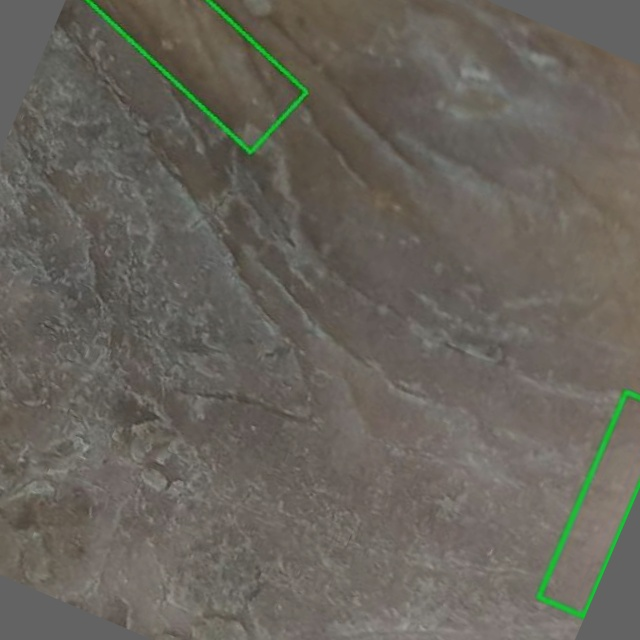Eczema: (86, 0, 306, 153), (537, 391, 639, 616)
